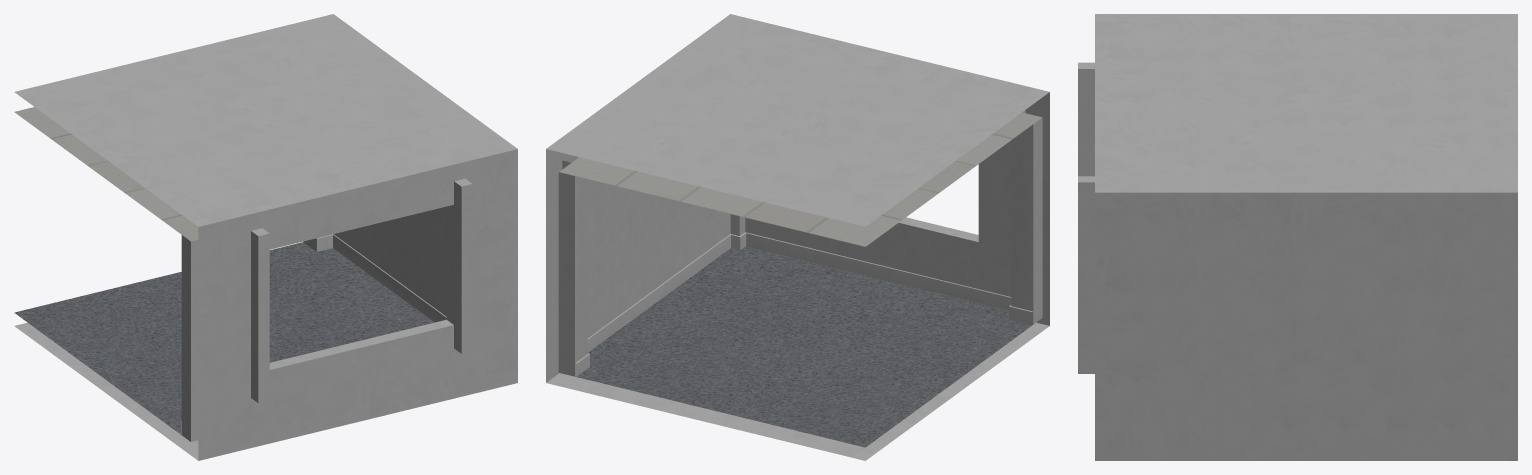
Rendered from SM_HallwayMesh_01_Corner_Both.fbx.
3 renders of one model, left to right at view 1: azimuth 30°, elevation 25°; view 2: azimuth 150°, elevation 25°; view 3: azimuth 270°, elevation 25°, orthographic. The views are drawn at different scales.
Parts seen in each view (by area): view 1: SM_HallwayMesh_01_Corner_Both_LOD0; view 2: SM_HallwayMesh_01_Corner_Both_LOD0; view 3: SM_HallwayMesh_01_Corner_Both_LOD0.
Boxes of the visible parts, x1,y1,x2,y2 form: SM_HallwayMesh_01_Corner_Both_LOD0: [14, 14, 517, 460]; SM_HallwayMesh_01_Corner_Both_LOD0: [546, 14, 1049, 460]; SM_HallwayMesh_01_Corner_Both_LOD0: [1078, 14, 1517, 460].
Size of the model in its own units: 500 by 520 by 350.
5 materials, 5 textured.
